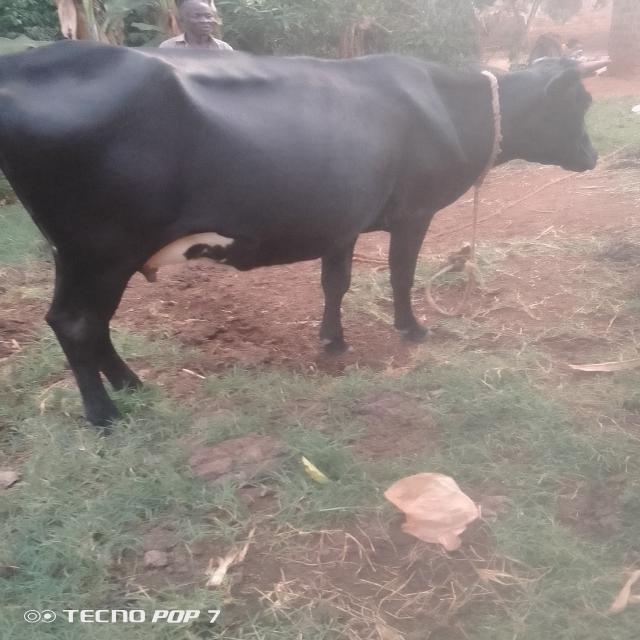Right: (0, 37, 613, 441)
